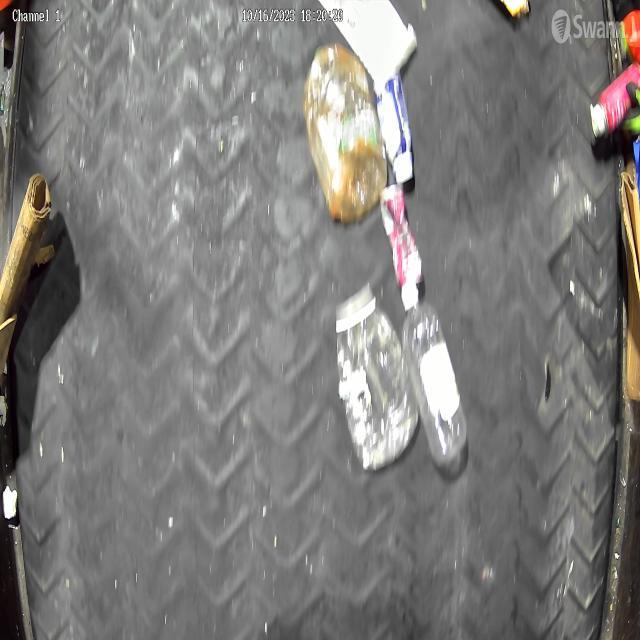can: (380, 185, 424, 292)
plastic_bottle: (336, 284, 417, 469), (400, 284, 470, 470)
